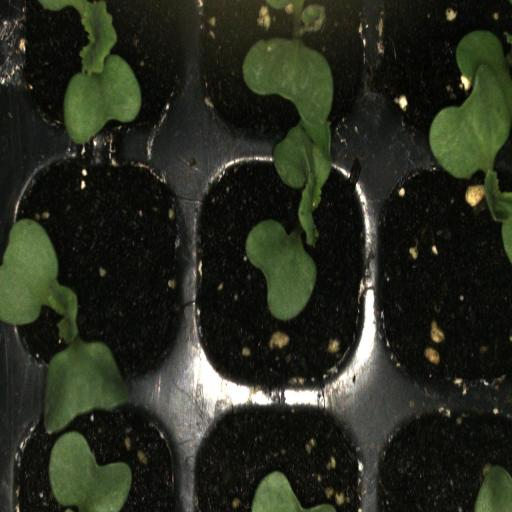Folha: (242, 30, 334, 321), (429, 31, 512, 259), (251, 470, 336, 512)
Germinacao: (186, 138, 372, 404), (11, 145, 186, 377), (376, 142, 512, 402), (7, 0, 187, 143)
